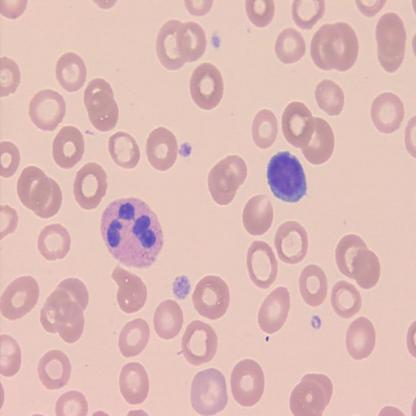Lymphocyte: (265, 149, 307, 203)
